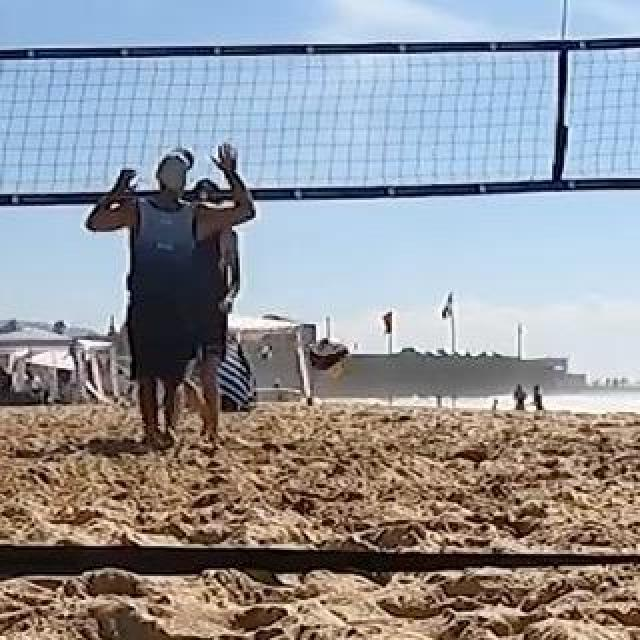volleyball: (309, 337, 349, 379)
